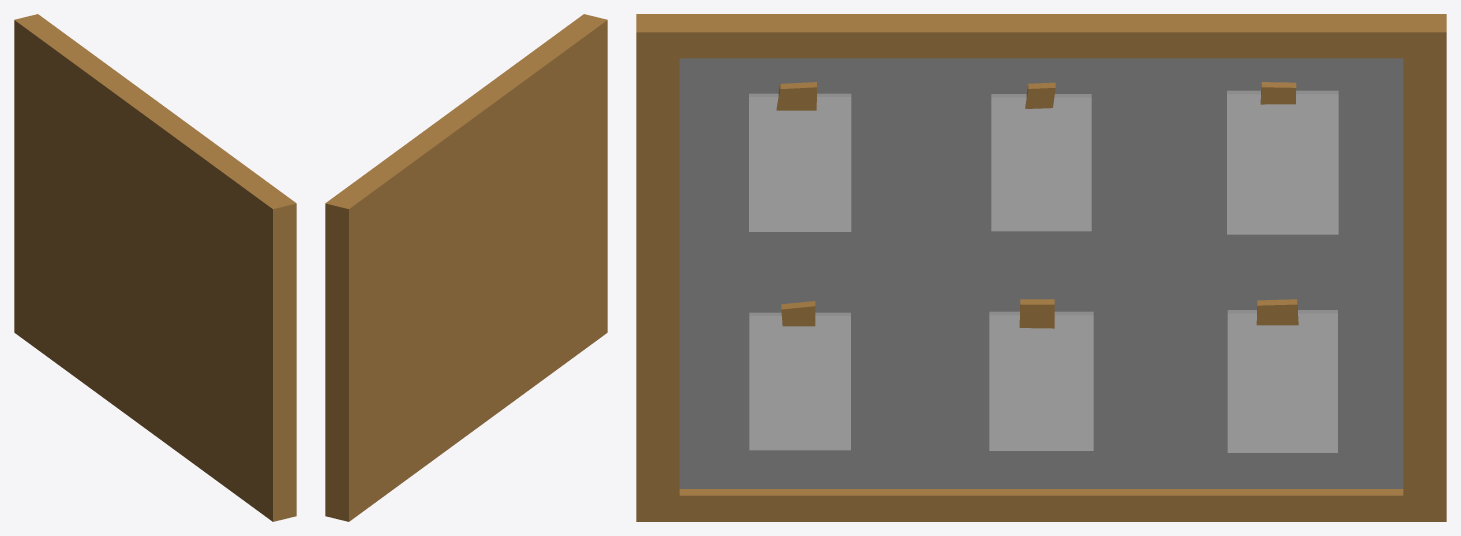
File: Bulletin.fbx
3 views of the same model, side by side, from view 1: azimuth 30°, elevation 25°; view 2: azimuth 150°, elevation 25°; view 3: azimuth 270°, elevation 25° (orthographic). The views are drawn at different scales.
Parts seen in each view (by area): view 1: Cube; view 2: Cube; view 3: Cube.
Boxes of the visible parts, x1,y1,x2,y2 form: Cube: (14,14,296,521); Cube: (325,14,607,521); Cube: (636,14,1446,521).
Bounding box in the file's own units: 31.88 × 400 × 600.
